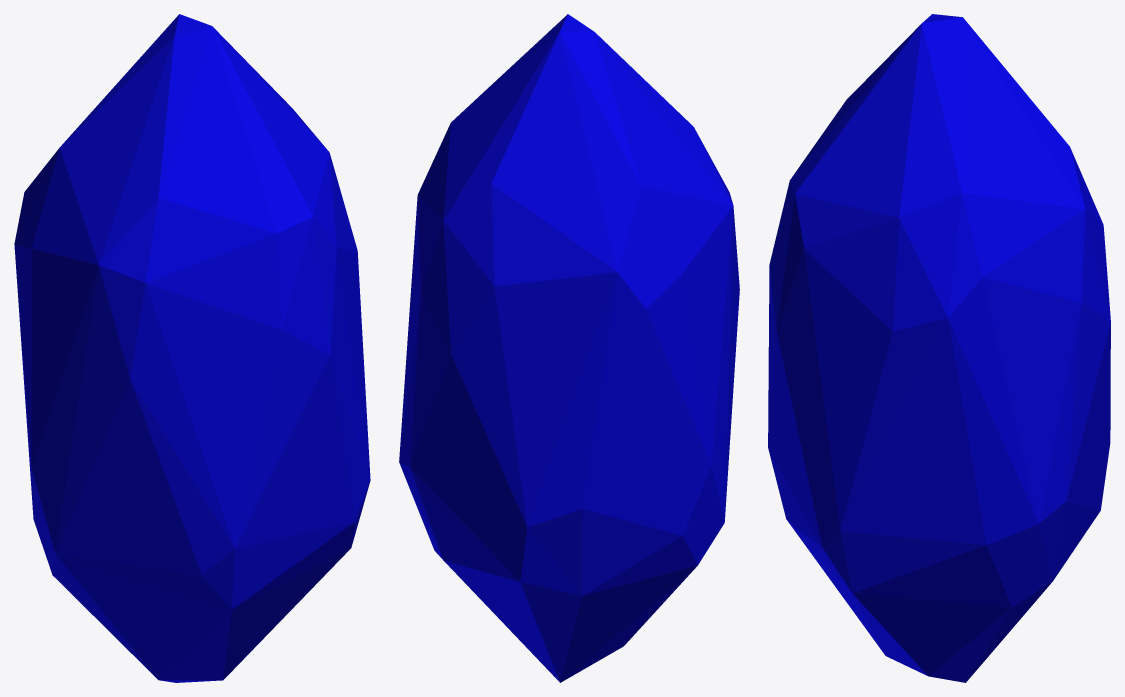
The model's file is Cristal.005.fbx.
The picture shows the model from 3 angles, left to right: view 1: azimuth 30°, elevation 25°; view 2: azimuth 150°, elevation 25°; view 3: azimuth 270°, elevation 25°; orthographic projection. The views are drawn at different scales.
Parts seen in each view (by area): view 1: Icosphere.002; view 2: Icosphere.002; view 3: Icosphere.002.
Part boxes in pixels (left/top/right/bottom): Icosphere.002: left=14, top=14, right=370, bottom=682; Icosphere.002: left=399, top=14, right=739, bottom=682; Icosphere.002: left=768, top=14, right=1110, bottom=682.
Size of the model in its own units: 165 by 346 by 161.
